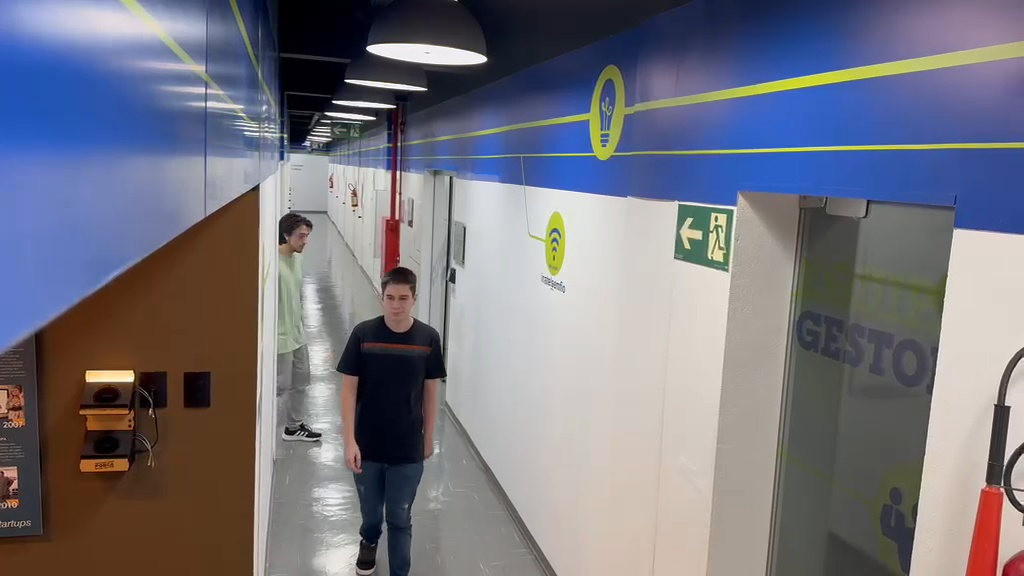person: (336, 265, 446, 572), (277, 211, 318, 442)
